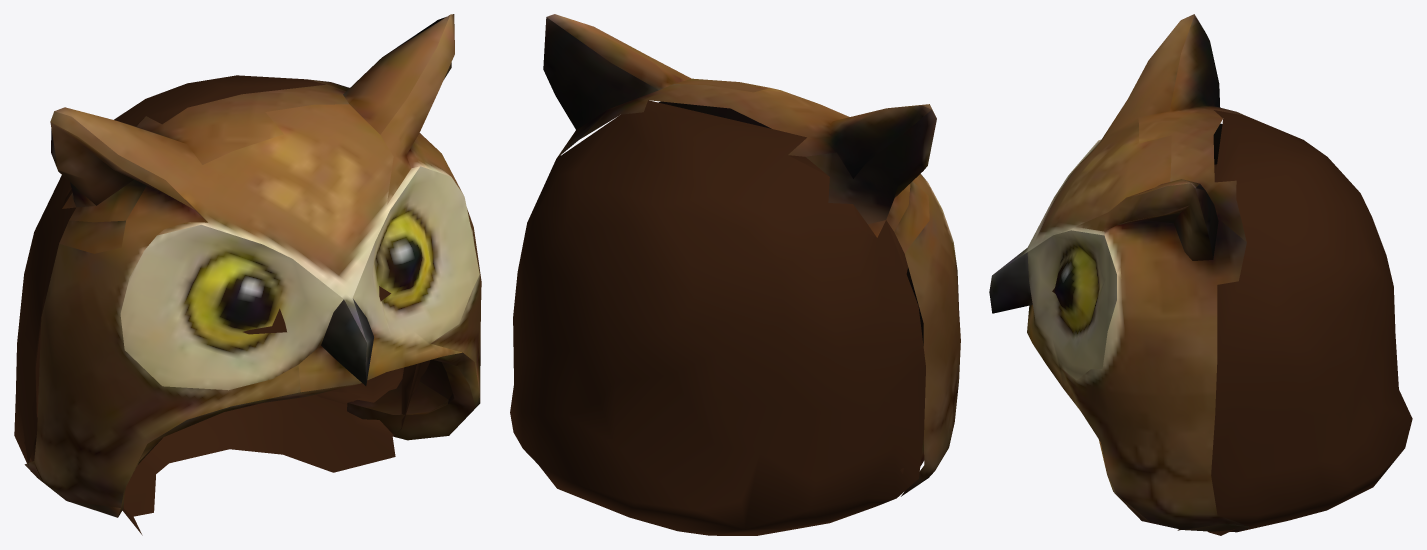
File: owl.glb
3 views of the same model, side by side, from view 1: azimuth 30°, elevation 25°; view 2: azimuth 150°, elevation 25°; view 3: azimuth 270°, elevation 25° (orthographic). The views are drawn at different scales.
Parts seen in each view (by area): view 1: geometry_0, HoodAnatomicalLining; view 2: geometry_0, HoodAnatomicalLining; view 3: geometry_0.
Boxes of the visible parts, box(x1,y1,x2,y2) form: geometry_0: box(14, 14, 481, 517); HoodAnatomicalLining: box(24, 279, 430, 535); geometry_0: box(510, 14, 960, 535); HoodAnatomicalLining: box(788, 155, 907, 473); geometry_0: box(989, 14, 1412, 532).
Size of the model in its own units: 0.5304 by 0.5324 by 0.5245.
2 materials, 1 textured.
